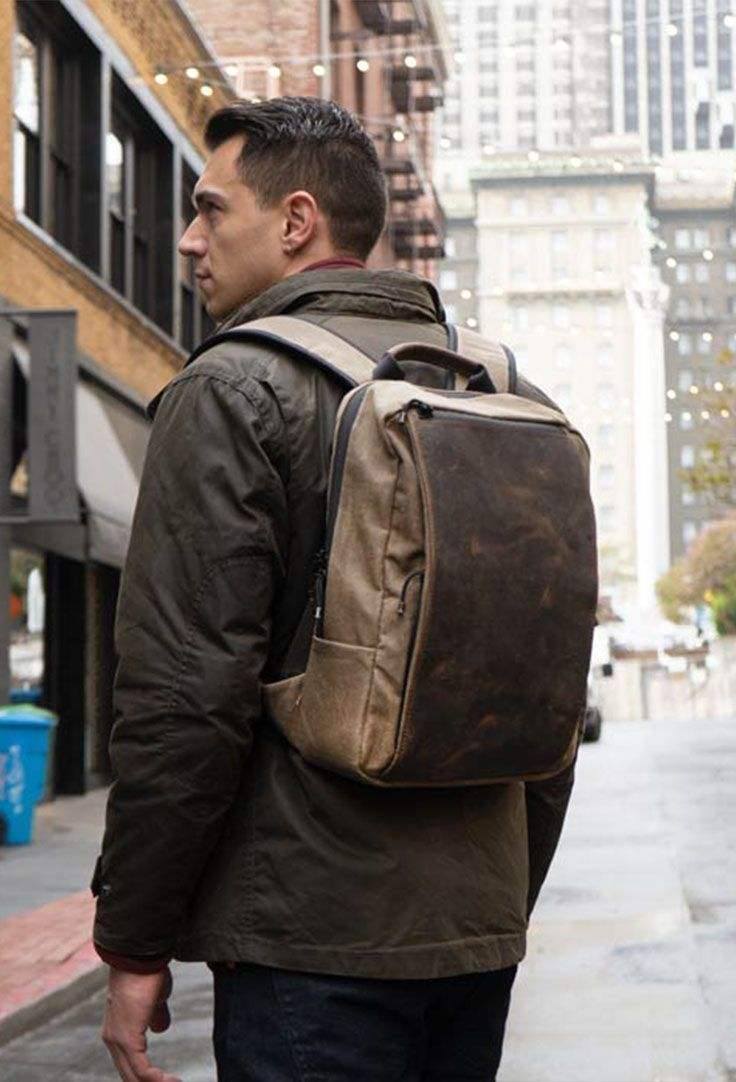backpack: (216, 314, 601, 791)
people: (88, 91, 573, 1082)
